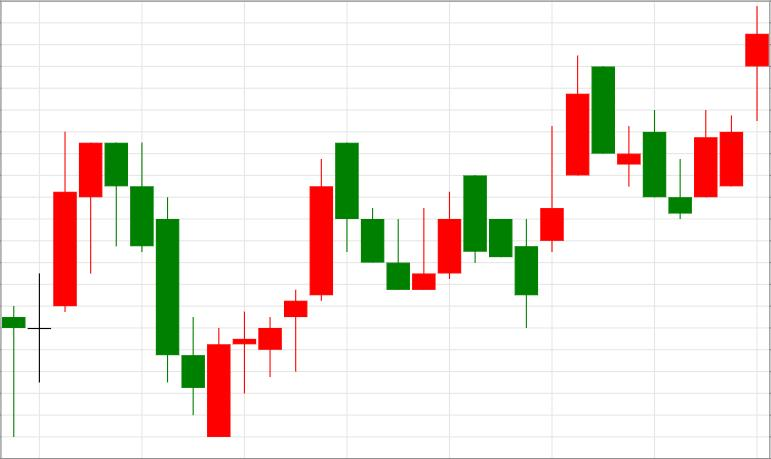hanging_man_fall: (2, 132, 128, 435)
morning_star_rise: (592, 66, 717, 218)
three_black_crows_fall: (207, 143, 409, 437)
